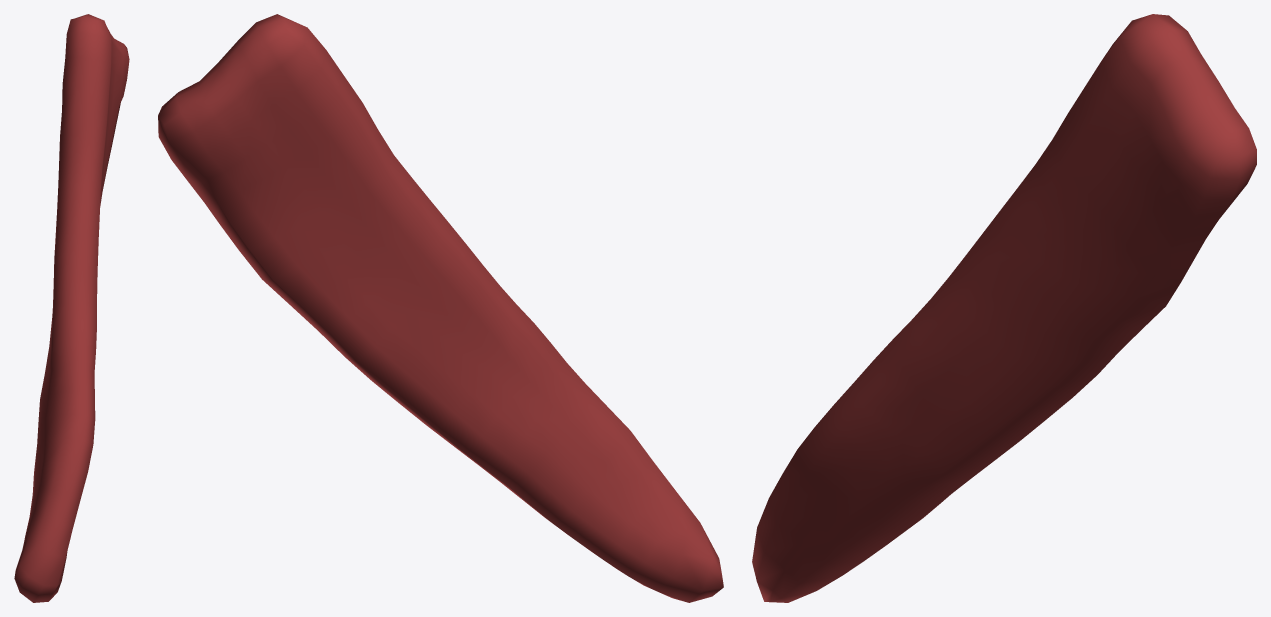
File: tendon-sheath-abd-pollicis-longus-ext-pollicis-brevis-r.glb
3 renders of one model, left to right at view 1: azimuth 30°, elevation 25°; view 2: azimuth 150°, elevation 25°; view 3: azimuth 270°, elevation 25°, orthographic. The views are drawn at different scales.
Visible parts, largest first — view 1: Tendon sheath - abd. pollicis longus - ext. pollicis brevis.; view 2: Tendon sheath - abd. pollicis longus - ext. pollicis brevis.; view 3: Tendon sheath - abd. pollicis longus - ext. pollicis brevis..
Boxes of the visible parts, x1,y1,x2,y2 form: Tendon sheath - abd. pollicis longus - ext. pollicis brevis.: [14, 14, 129, 602]; Tendon sheath - abd. pollicis longus - ext. pollicis brevis.: [158, 14, 723, 602]; Tendon sheath - abd. pollicis longus - ext. pollicis brevis.: [752, 14, 1256, 602].
Size of the model in its own units: 0.0285 by 0.0492 by 0.0317.
